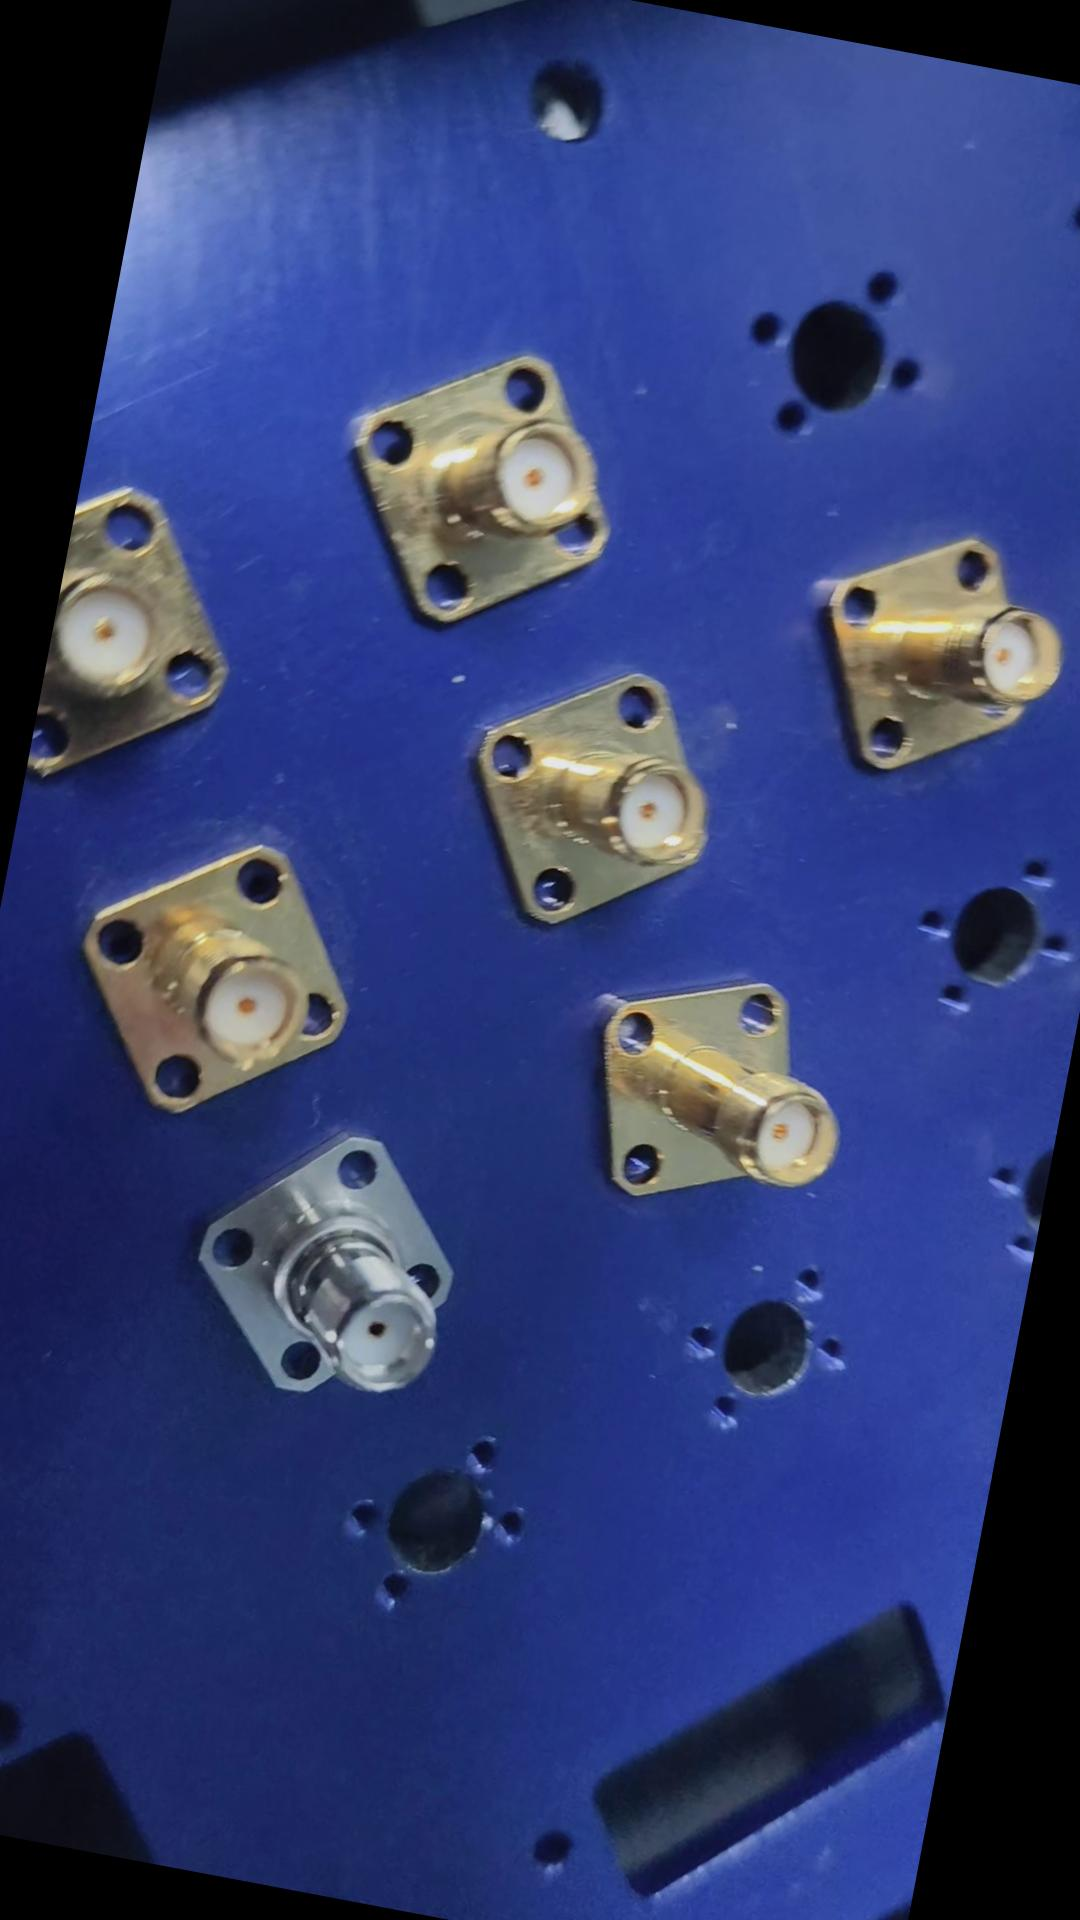SMA: (59, 802, 388, 1145), (177, 1095, 491, 1433), (332, 324, 640, 655), (460, 644, 745, 957), (791, 512, 1080, 810), (572, 956, 872, 1240)
